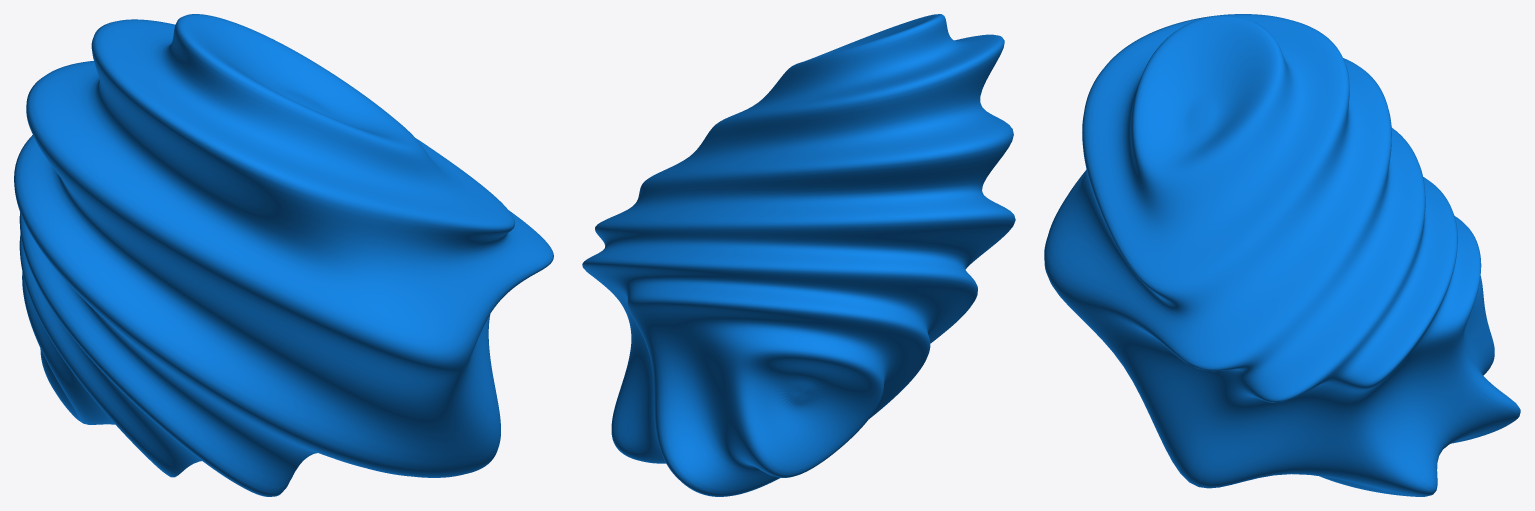
3 renders of one model, left to right at view 1: azimuth 30°, elevation 25°; view 2: azimuth 150°, elevation 25°; view 3: azimuth 270°, elevation 25°, orthographic. The views are drawn at different scales.
Parts seen in each view (by area): view 1: Sphere.009; view 2: Sphere.009; view 3: Sphere.009.
Boxes of the visible parts, <box> form: Sphere.009: <box>14,14,553,496</box>; Sphere.009: <box>582,14,1015,496</box>; Sphere.009: <box>1044,14,1520,496</box>.
Size of what is drawn, in the model's own units: 1.82 by 1.86 by 1.99.
